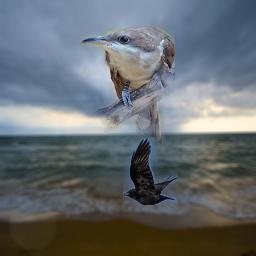Crow: (123, 138, 178, 205)
Cuckoo: (80, 26, 175, 156)
